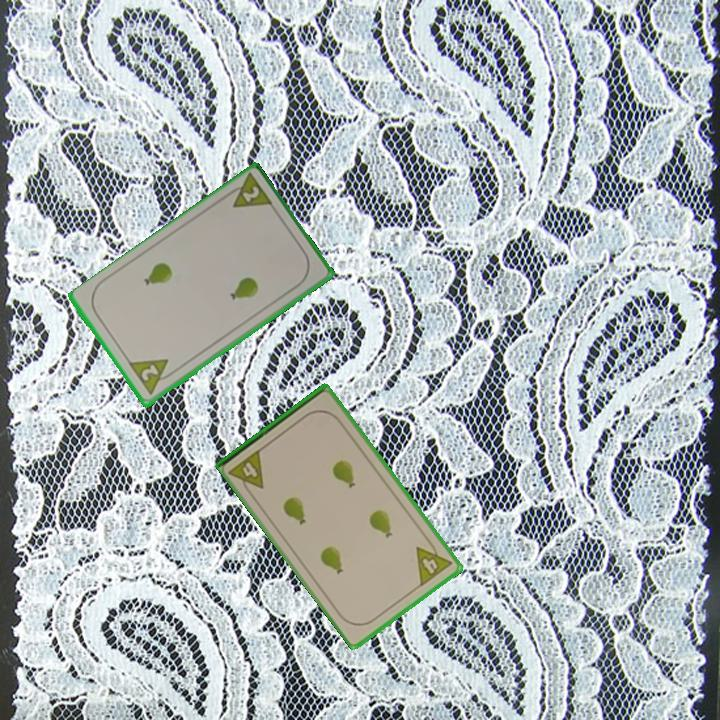2p: (126, 355, 179, 398), (221, 171, 276, 211)
4p: (412, 535, 455, 589), (226, 445, 267, 499)
